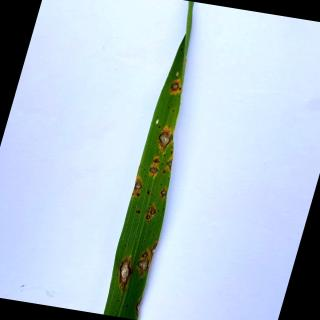Blast: (118, 256, 133, 293), (158, 126, 172, 153), (169, 78, 182, 95), (136, 258, 149, 274), (132, 178, 143, 196), (149, 164, 159, 178), (150, 242, 158, 257), (165, 156, 172, 171), (160, 187, 167, 200), (152, 156, 160, 165), (148, 206, 156, 215), (144, 213, 152, 222), (141, 250, 149, 259)
